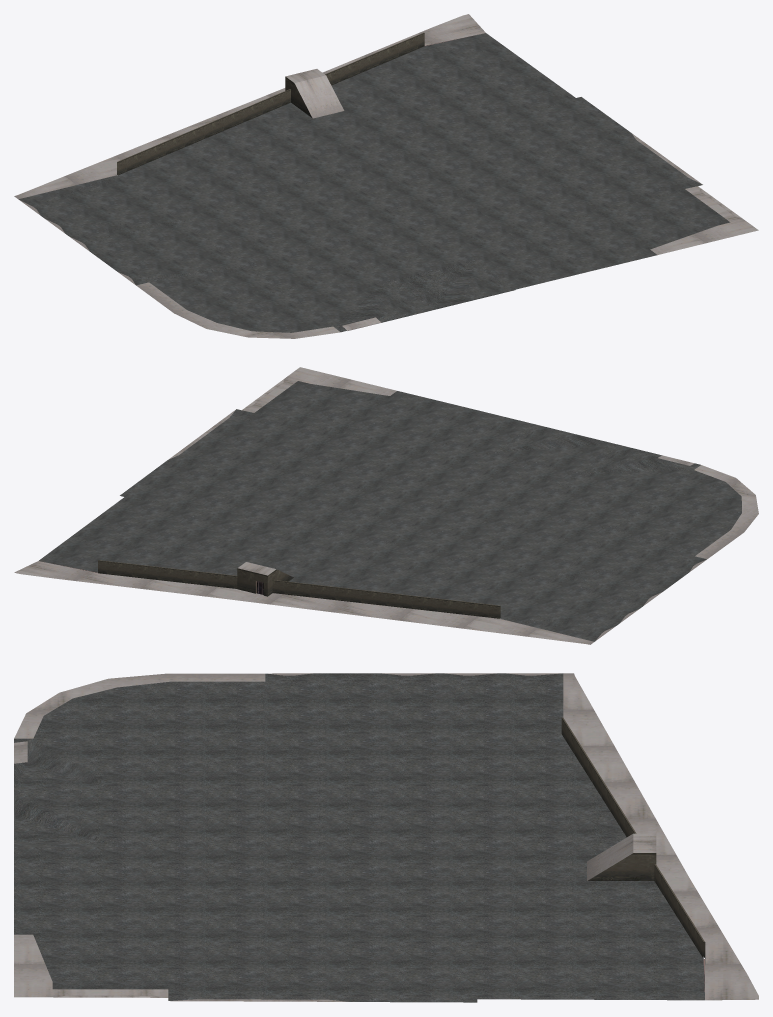
File: ctyhllblk2land_lan.obj
3 renders of one model, top to bottom at view 1: azimuth 30°, elevation 25°; view 2: azimuth 150°, elevation 25°; view 3: azimuth 270°, elevation 25°, orthographic. The views are drawn at different scales.
Visible parts, largest first — view 1: ctyhllblk2land_LAn; view 2: ctyhllblk2land_LAn; view 3: ctyhllblk2land_LAn.
Boxes of the visible parts, box(x1,y1,x2,y2) form: ctyhllblk2land_LAn: box(14, 14, 758, 338); ctyhllblk2land_LAn: box(14, 367, 758, 644); ctyhllblk2land_LAn: box(14, 673, 758, 1002).
Bounding box in the file's own units: 100 × 4.4 × 96.46.
